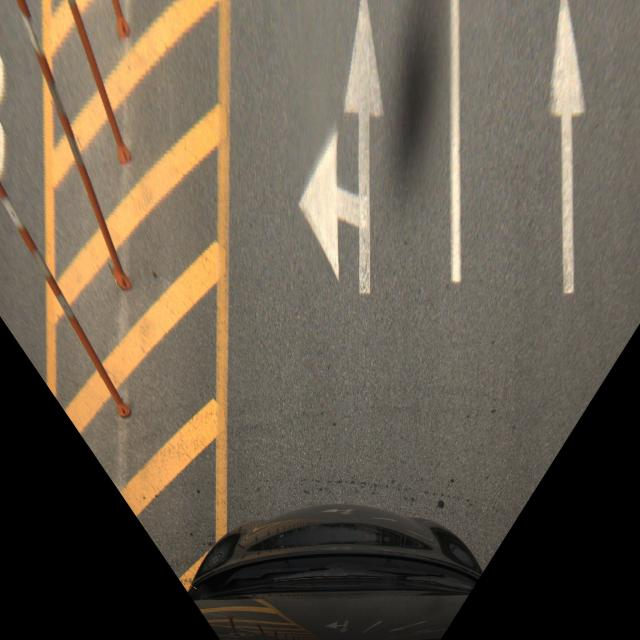forward: (450, 0, 638, 318)
